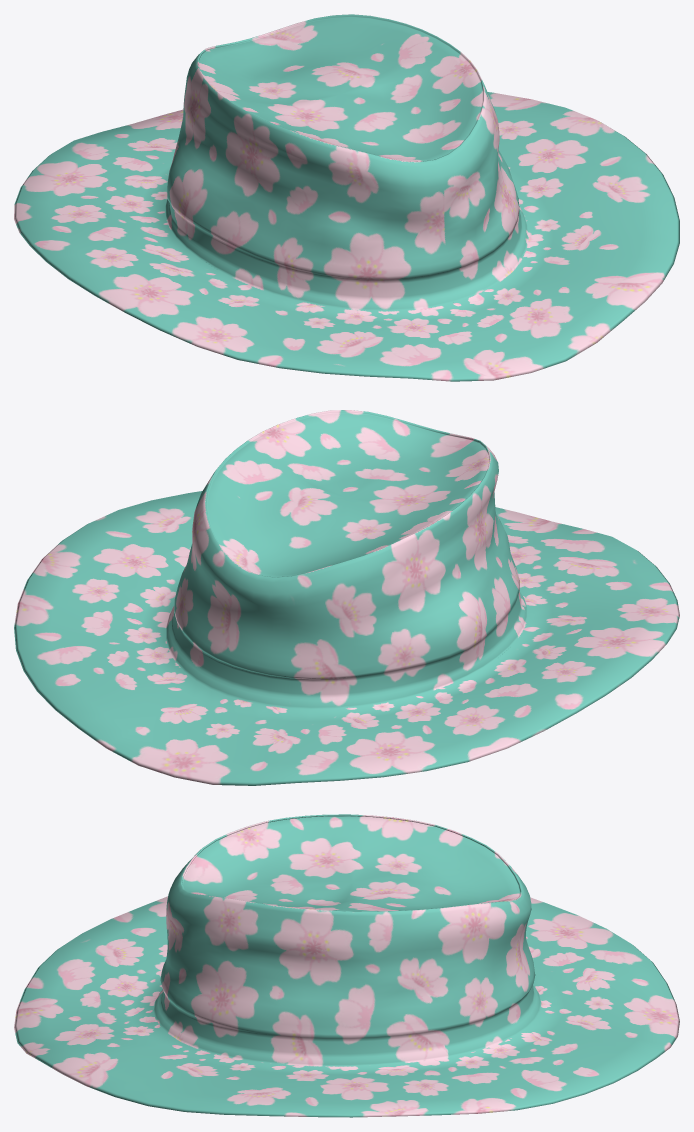
The model's file is Sombrero Manequeen_Model.fbx.
3 renders of one model, top to bottom at view 1: azimuth 30°, elevation 25°; view 2: azimuth 150°, elevation 25°; view 3: azimuth 270°, elevation 25°, orthographic. The views are drawn at different scales.
Visible parts, largest first — view 1: Sombrero Hat; view 2: Sombrero Hat; view 3: Sombrero Hat.
Boxes of the visible parts, left/top/right/bottom form: Sombrero Hat: left=14, top=14, right=679, bottom=381; Sombrero Hat: left=14, top=410, right=679, bottom=785; Sombrero Hat: left=14, top=814, right=679, bottom=1117.
Size of the model in its own units: 493 by 145 by 540.
Materials: 1 (1 with a texture image).
